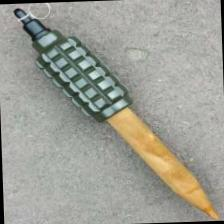POMZ2: (2, 0, 220, 224)
